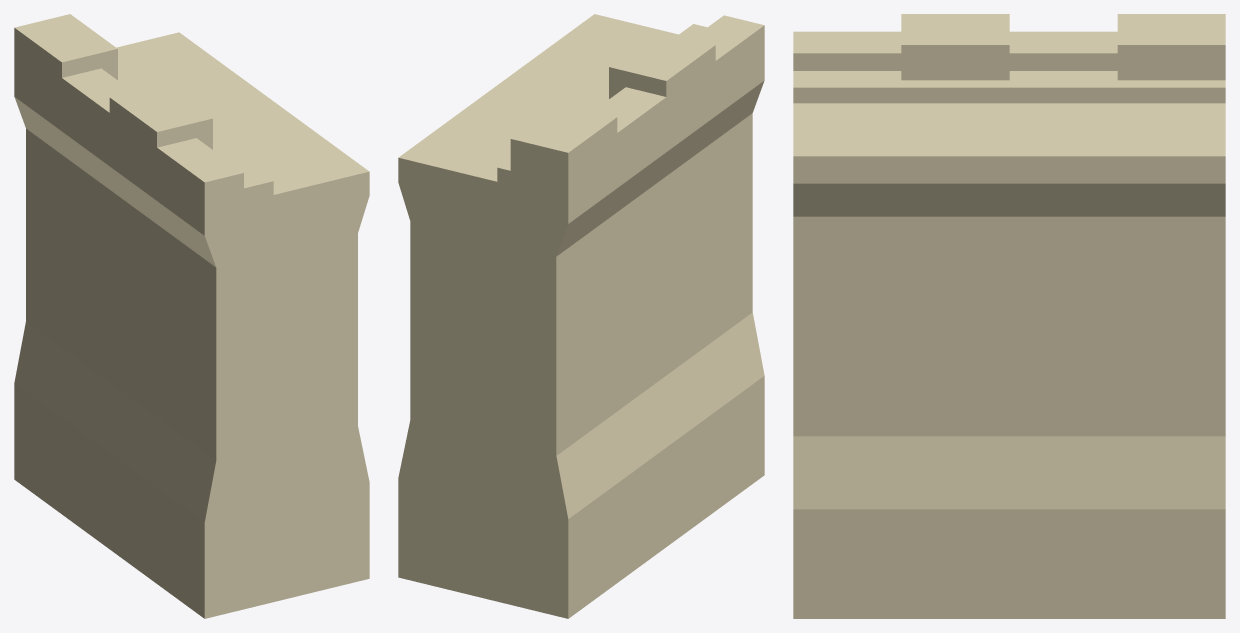
The model's file is wallnarrow.glb.
3 renders of one model, left to right at view 1: azimuth 30°, elevation 25°; view 2: azimuth 150°, elevation 25°; view 3: azimuth 270°, elevation 25°, orthographic. The views are drawn at different scales.
Visible parts, largest first — view 1: wallNarrow; view 2: wallNarrow; view 3: wallNarrow.
Boxes of the visible parts, bbox=[...] form: wallNarrow: bbox=[14, 14, 369, 618]; wallNarrow: bbox=[398, 14, 764, 618]; wallNarrow: bbox=[793, 14, 1225, 618].
Bounding box in the file's own units: 5 × 13.1 × 10.
